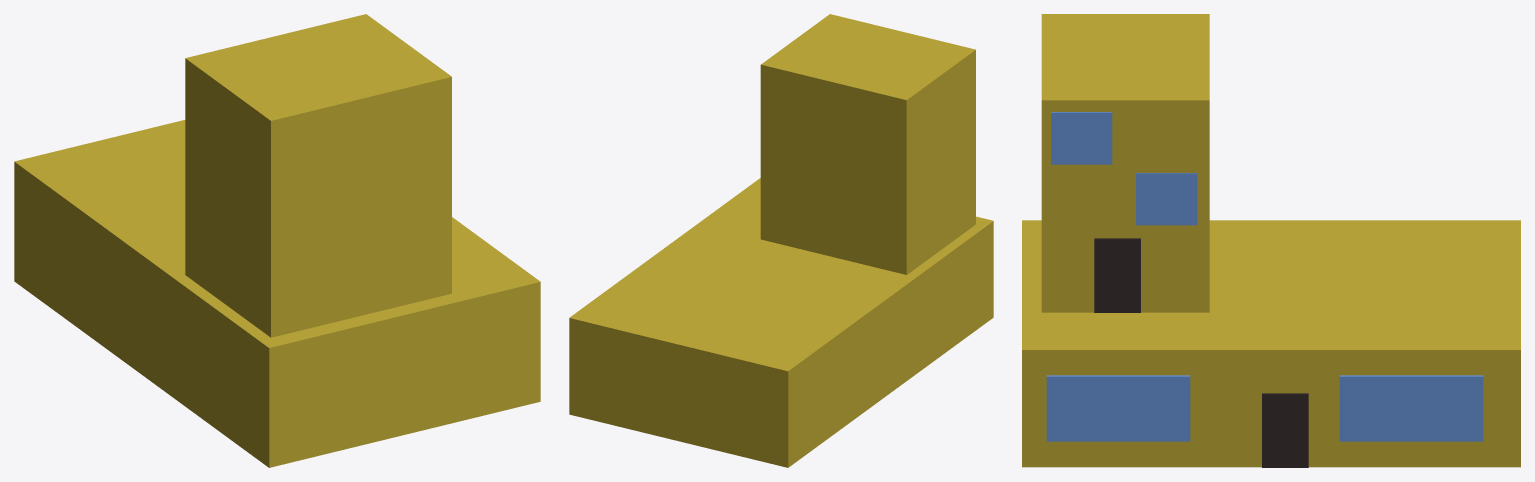
The model's file is House_Yellow.fbx.
The picture shows the model from 3 angles, left to right: view 1: azimuth 30°, elevation 25°; view 2: azimuth 150°, elevation 25°; view 3: azimuth 270°, elevation 25°; orthographic projection. The views are drawn at different scales.
Visible parts, largest first — view 1: Cube.010, Cube.011; view 2: Cube.010, Cube.011; view 3: Cube.010, Cube.011, Window_1.005, Window_1.006, Door_1.003, Door_1.004, Window_1.007, Window_1.008.
Boxes of the visible parts, x1,y1,x2,y2 form: Cube.010: [14, 120, 540, 467]; Cube.011: [185, 14, 451, 337]; Cube.010: [569, 178, 993, 467]; Cube.011: [760, 14, 975, 274]; Cube.010: [1022, 220, 1520, 467]; Cube.011: [1041, 14, 1209, 312]; Window_1.005: [1046, 375, 1190, 441]; Window_1.006: [1339, 375, 1483, 441]; Door_1.003: [1262, 393, 1308, 467]; Door_1.004: [1094, 238, 1140, 312]; Window_1.007: [1051, 112, 1112, 164]; Window_1.008: [1136, 173, 1197, 225].
Bounding box in the file's own units: 2391 × 2805 × 3851.
